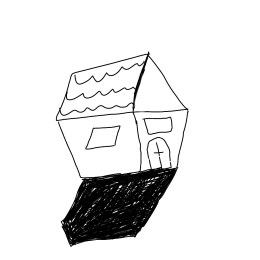door: (145, 135, 174, 171)
open_window: (83, 123, 124, 152), (140, 116, 180, 136)
roof: (48, 51, 195, 123)
shadow: (59, 167, 182, 248)
wall: (55, 106, 145, 178)
